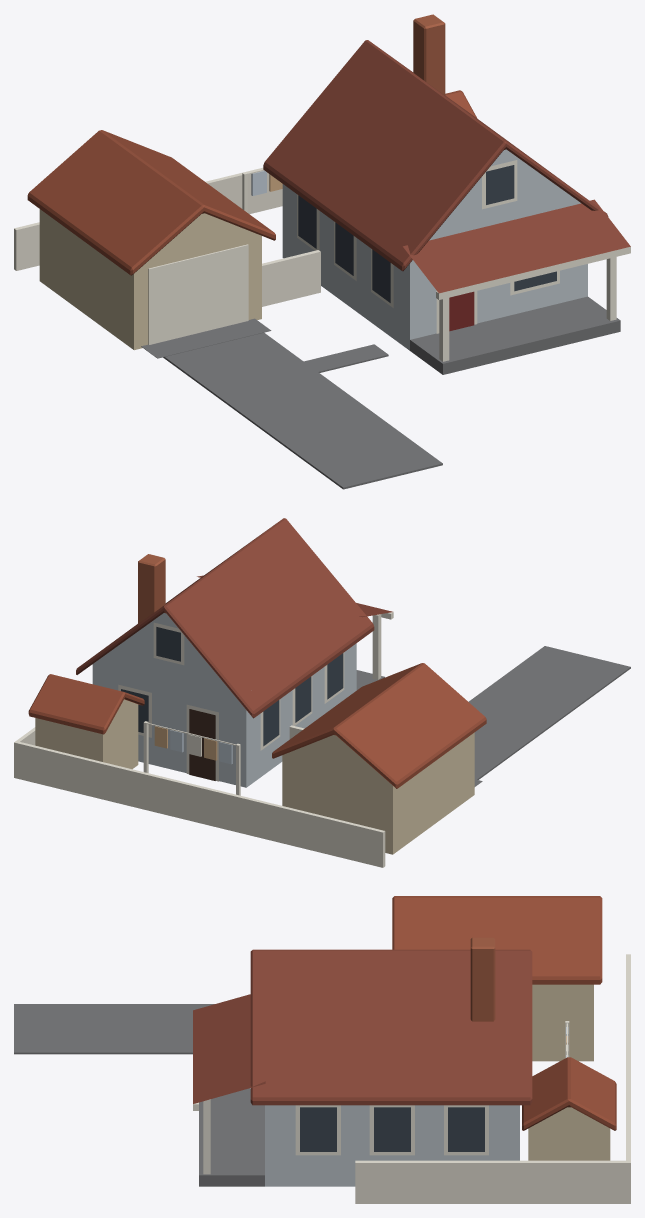
The model's file is house_e.glb.
The picture shows the model from 3 angles, top to bottom: view 1: azimuth 30°, elevation 25°; view 2: azimuth 150°, elevation 25°; view 3: azimuth 270°, elevation 25°; orthographic projection. The views are drawn at different scales.
Parts seen in each view (by area): view 1: house_e; view 2: house_e; view 3: house_e.
Boxes of the visible parts, box(x1,y1,x2,y2) form: house_e: box(14, 14, 630, 489); house_e: box(14, 518, 630, 867); house_e: box(14, 896, 630, 1203).
Bounding box in the file's own units: 12.05 × 5.9 × 15.
